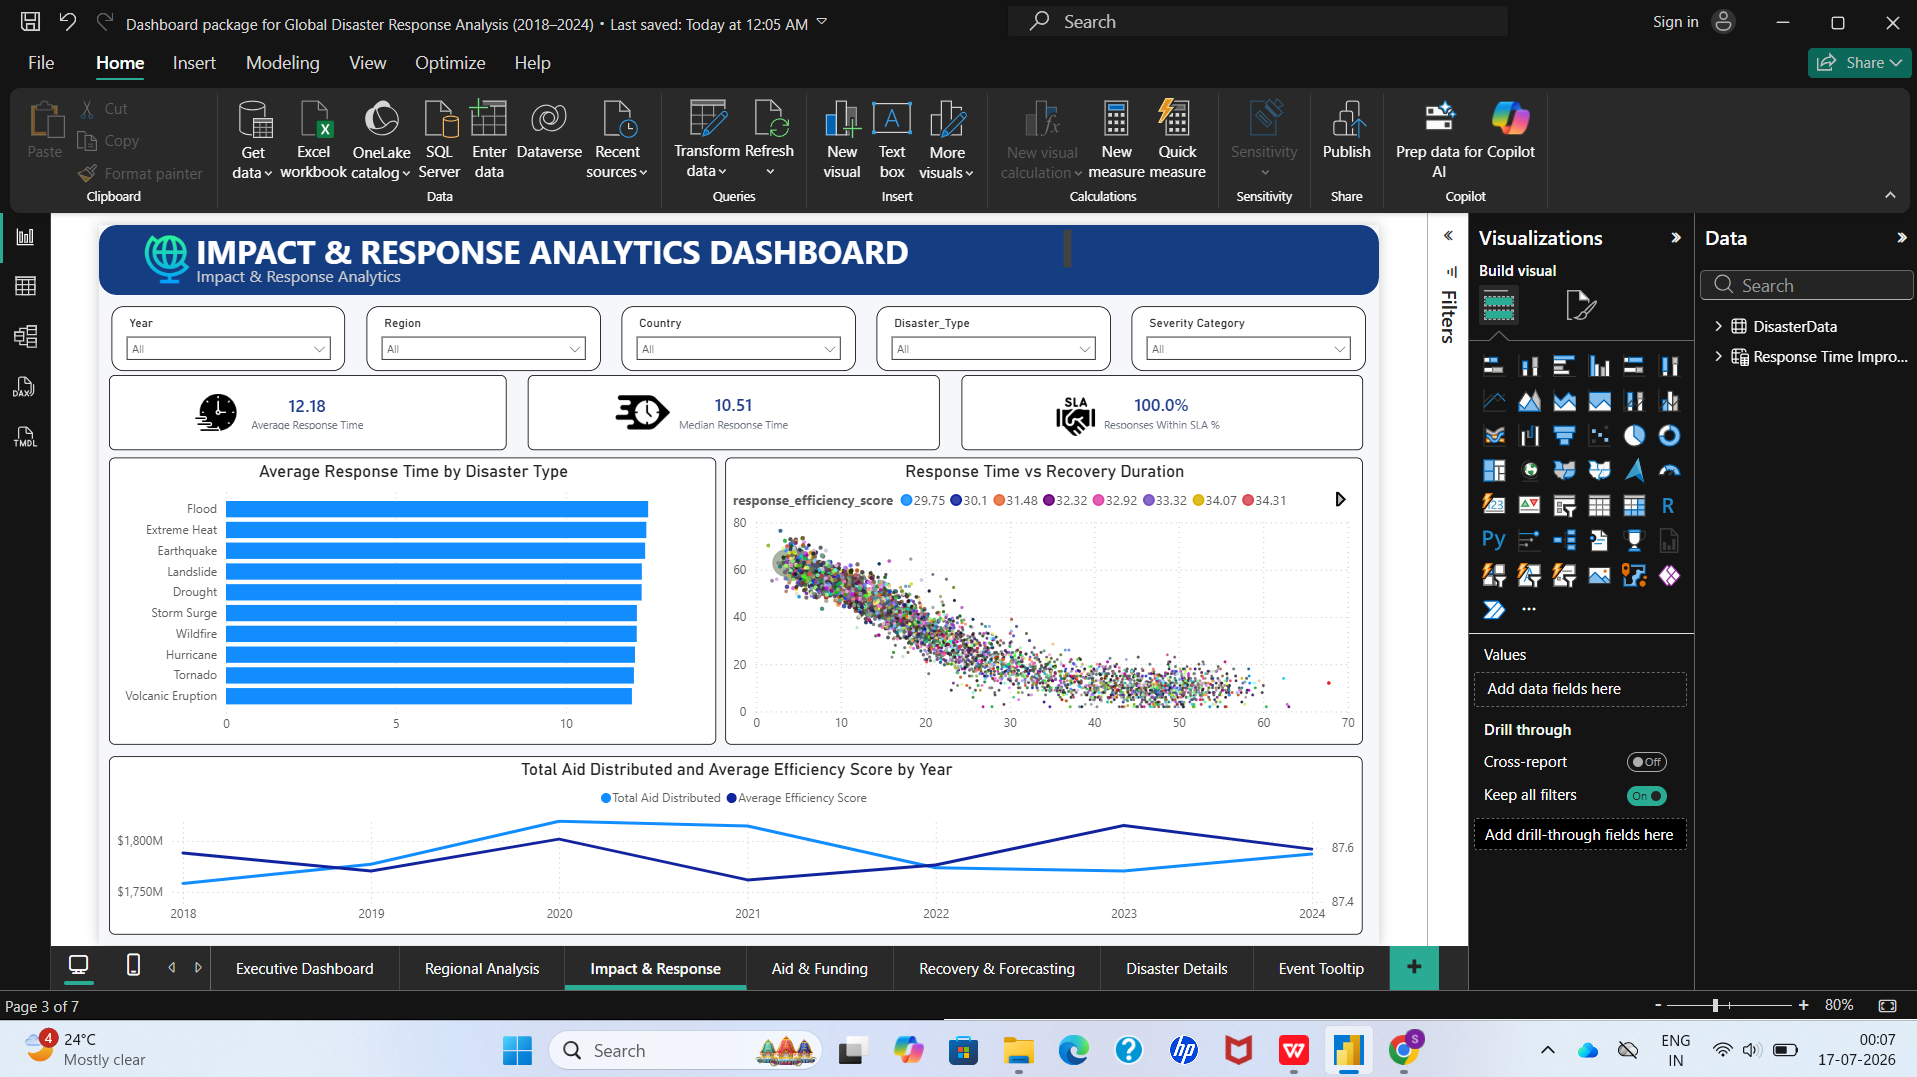

This screenshot's page, from the dashboard's own definition file:
{"tool":"powerbi","page":{"name":"Impact & Response","canvas":[1280,720],"ordinal":2},"visuals":[{"type":"cardVisual","fields":{"Data":["DisasterData.Average Response Time"]},"box":[10,150,397.5,75],"z":0},{"type":"cardVisual","fields":{"Data":["DisasterData.Median Response Time"]},"box":[428.2,149.7,412.3,74.8],"z":1000},{"type":"cardVisual","fields":{"Data":["DisasterData.Responses Within SLA %"]},"box":[862.6,149.7,401.2,74.8],"z":2000},{"type":"scatterChart","title":"Response Time vs Recovery Duration","fields":{"Size":["Sum(DisasterData.economic_loss_usd)"],"X":["DisasterData.Average Response Time"],"Y":["DisasterData.Average Recovery Days"],"Series":["DisasterData.response_efficiency_score"]},"box":[626.2,232.5,637.5,287.5],"z":3000},{"type":"clusteredBarChart","title":"Average Response Time by Disaster Type","fields":{"Category":["DisasterData.Disaster_Type"],"Y":["DisasterData.Average Response Time"]},"box":[10,232.5,607.5,287.5],"z":4000},{"type":"lineChart","fields":{"Category":["DisasterData.date.Variation.Date Hierarchy.Year"],"Y":["DisasterData.Total Aid Distributed"],"Y2":["DisasterData.Average Efficiency Score"]},"box":[10,531.2,1253.8,178.8],"z":5000},{"type":"image","box":[92.5,163.8,48.8,47.5],"z":6000},{"type":"image","box":[503.8,155,80,65],"z":7000},{"type":"image","box":[951.2,172.5,51.2,38.8],"z":8000},{"type":"shape","box":[0,0,1280,70],"z":9000},{"type":"image","box":[43.8,0,48.8,68.8],"z":10000},{"type":"textbox","box":[92.5,0,885,50],"z":11000},{"type":"textbox","box":[92.5,35,401.2,33.8],"z":12000},{"type":"slicer","fields":{"Values":["DisasterData.date.Variation.Date Hierarchy.Year"]},"box":[12.5,81.2,233.8,65],"z":13000},{"type":"slicer","fields":{"Values":["DisasterData.country"]},"box":[522.7,81,234.4,65],"z":14000},{"type":"slicer","fields":{"Values":["DisasterData.disaster_type"]},"box":[777.9,81,234.4,65],"z":15000},{"type":"slicer","fields":{"Values":["DisasterData.Region"]},"box":[267.5,81,234.4,65],"z":16000},{"type":"slicer","fields":{"Values":["DisasterData.Severity Category"]},"box":[1031.9,81,234.4,65],"z":17000}]}

Visuals, with their boxes on the page's 1280x720 design canvas (x1, y1, x2, y2). These are canvas units, not pixel positions in the 1917x1077 screenshot, which may show the page scaled, cropped or inside an application window:
cardVisual - DisasterData.Average Response Time: (10,150,408,225)
cardVisual - DisasterData.Median Response Time: (428,150,840,224)
cardVisual - DisasterData.Responses Within SLA %: (863,150,1264,224)
"Response Time vs Recovery Duration" scatterChart: (626,232,1264,520)
"Average Response Time by Disaster Type" clusteredBarChart: (10,232,618,520)
lineChart - DisasterData.date.Variation.Date Hierarchy.Year x DisasterData.Total Aid Distributed: (10,531,1264,710)
image: (92,164,141,211)
image: (504,155,584,220)
image: (951,172,1002,211)
shape: (0,0,1280,70)
image: (44,0,93,69)
textbox: (92,0,978,50)
textbox: (92,35,494,69)
slicer - DisasterData.date.Variation.Date Hierarchy.Year: (12,81,246,146)
slicer - DisasterData.country: (523,81,757,146)
slicer - DisasterData.disaster_type: (778,81,1012,146)
slicer - DisasterData.Region: (268,81,502,146)
slicer - DisasterData.Severity Category: (1032,81,1266,146)
